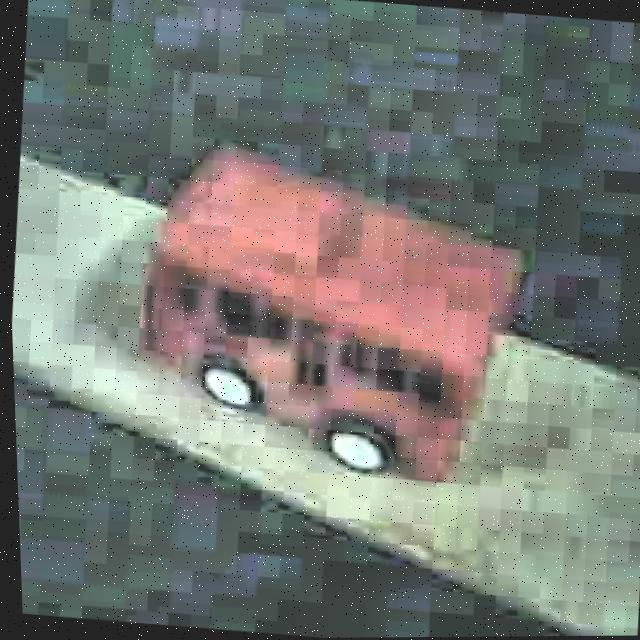bus: (116, 133, 536, 494)
